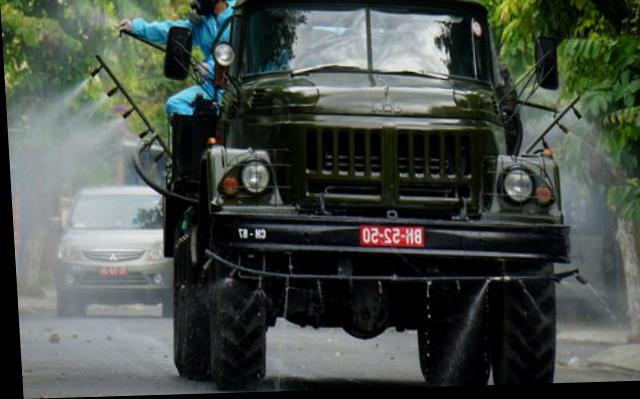License_Plate: (360, 224, 426, 247)
